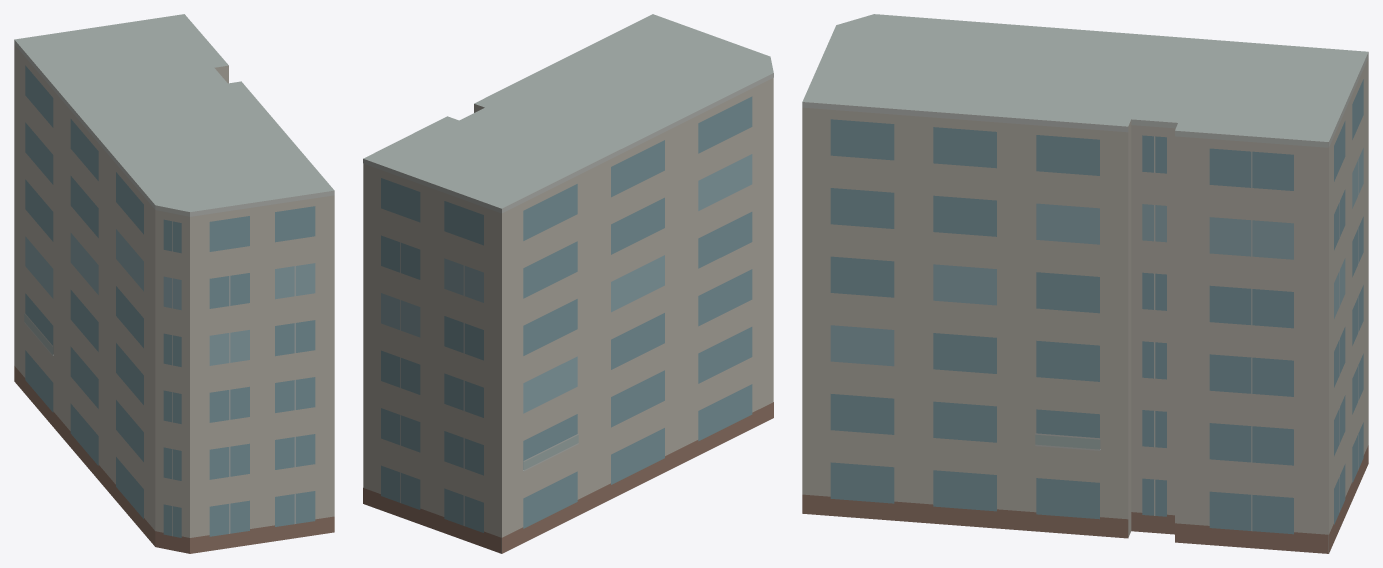
Rendered from survey-upis-32713670.glb.
The picture shows the model from 3 angles, left to right: view 1: azimuth 30°, elevation 25°; view 2: azimuth 150°, elevation 25°; view 3: azimuth 270°, elevation 25°; orthographic projection. The views are drawn at different scales.
Parts seen in each view (by area): view 1: survey-upis-32713670.tmp; view 2: survey-upis-32713670.tmp; view 3: survey-upis-32713670.tmp.
Boxes of the visible parts, x1,y1,x2,y2 form: survey-upis-32713670.tmp: (14, 14, 334, 553); survey-upis-32713670.tmp: (363, 14, 773, 553); survey-upis-32713670.tmp: (802, 14, 1368, 553).
Bounding box in the file's own units: 11.79 × 17.65 × 22.01.
